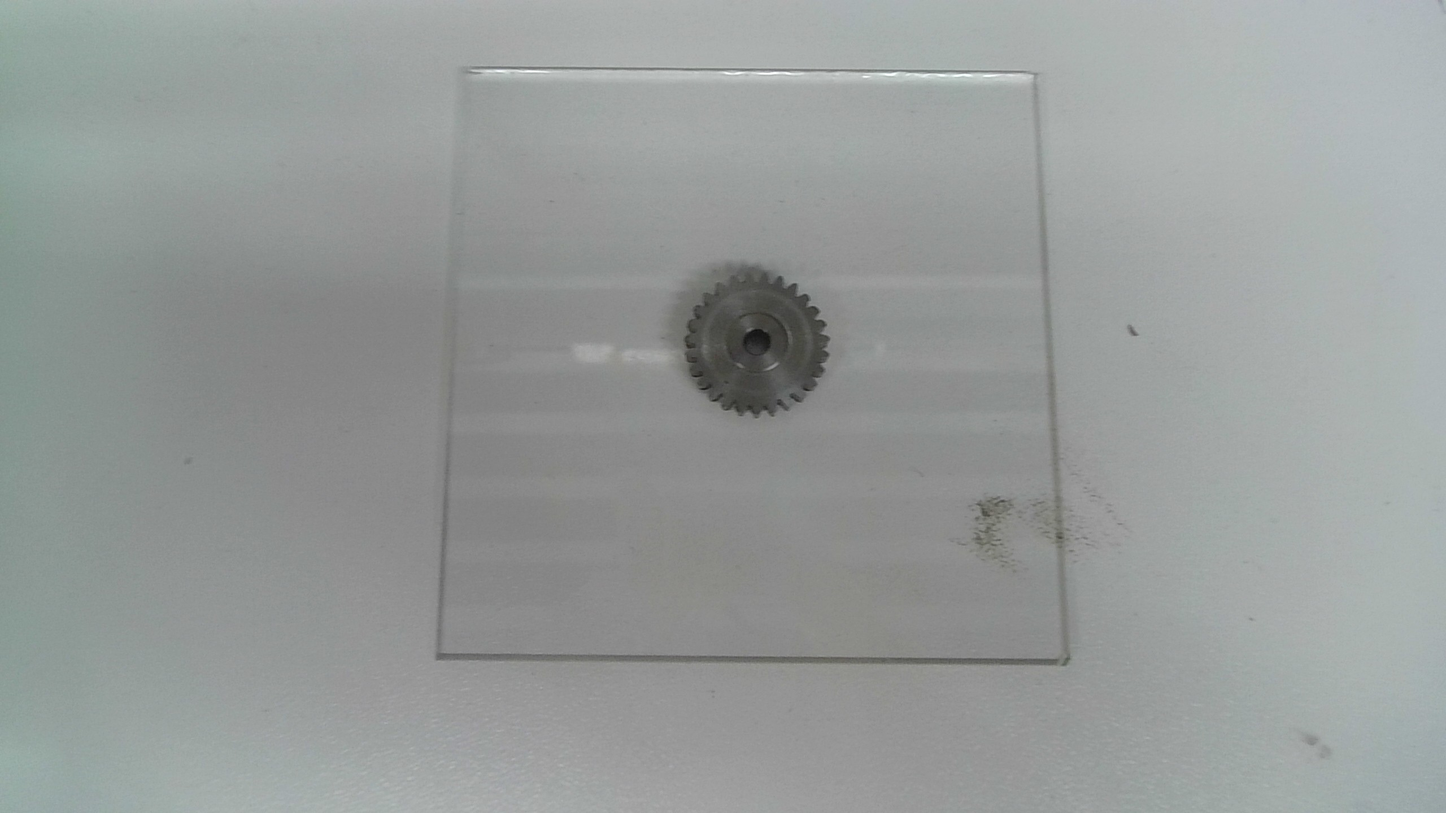gear: (683, 269, 831, 421)
